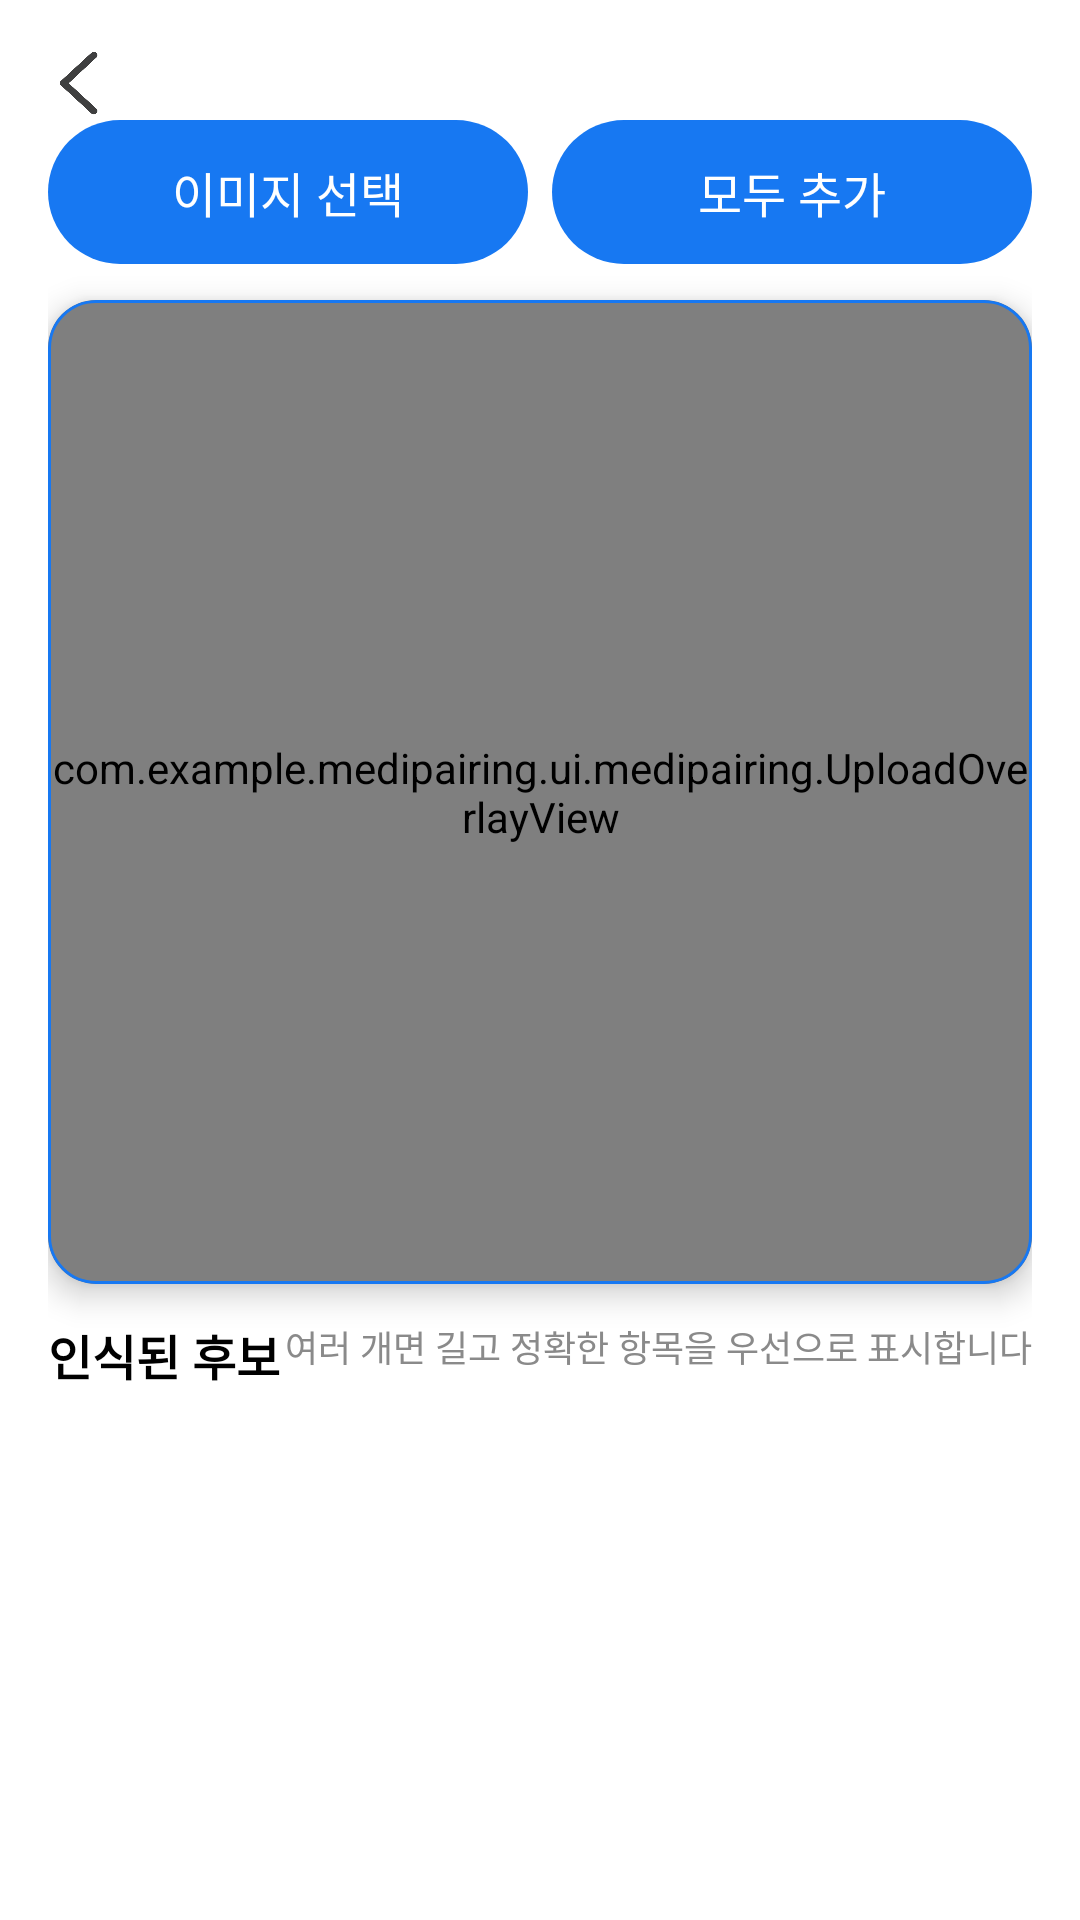

Where to tap for icons on this 1080x1920 app screen, as (x=x, y=y):
return: (x=79, y=83)
